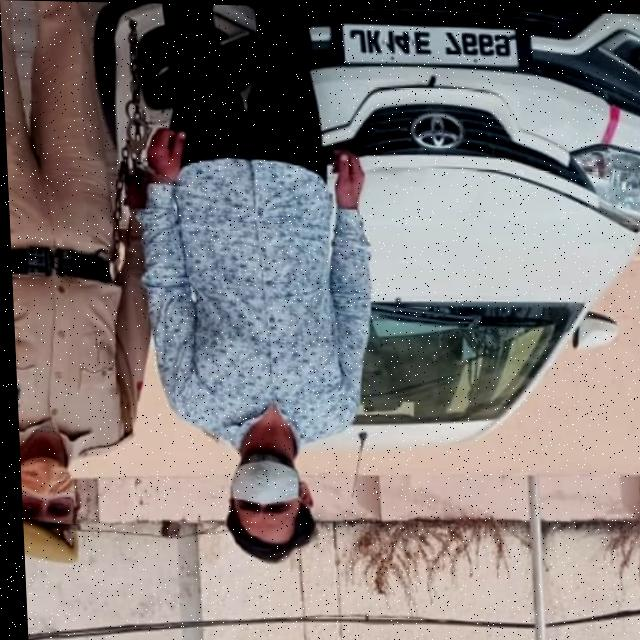plate: (329, 14, 530, 75)
